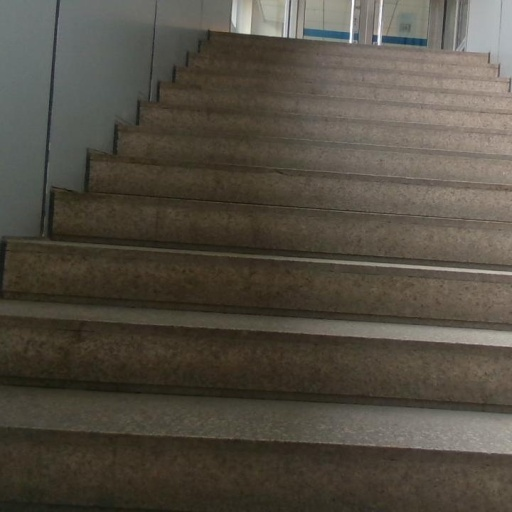Stairs: (0, 33, 512, 512)
